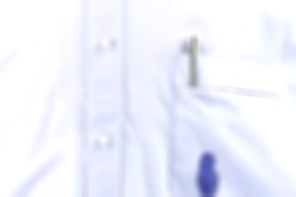ink: (197, 153, 217, 197)
